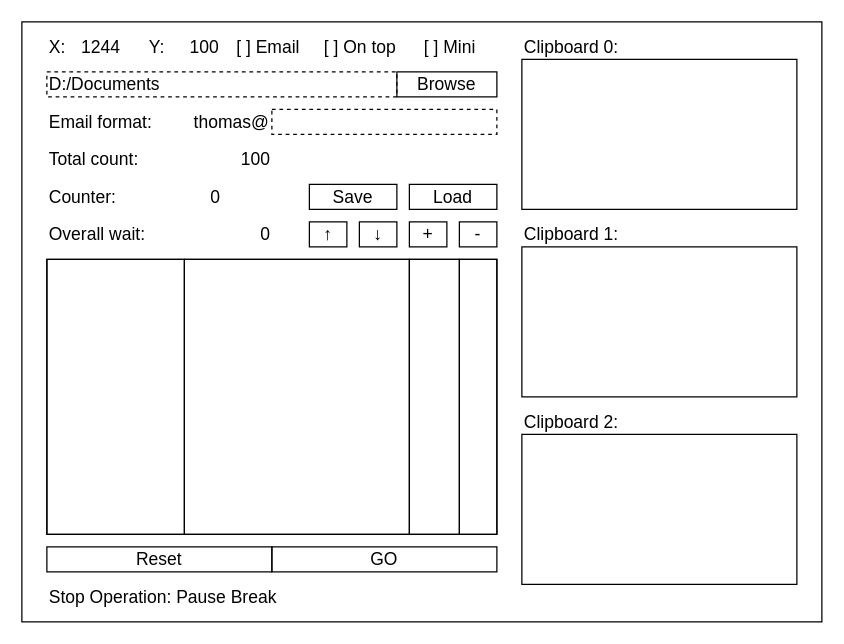
The diagram is 844 pixels wide and 644 high, and some of its shapes have lost their labels. Here are the shapes that lost their labels. From the top down, the centre of each, then its label:
At pixel 384 121: "siswa365.um.edu.my".
At pixel 115 396: "Type".
At pixel 296 396: "Description".
At pixel 433 396: "Wait".
At pixel 477 396: "Listen".
